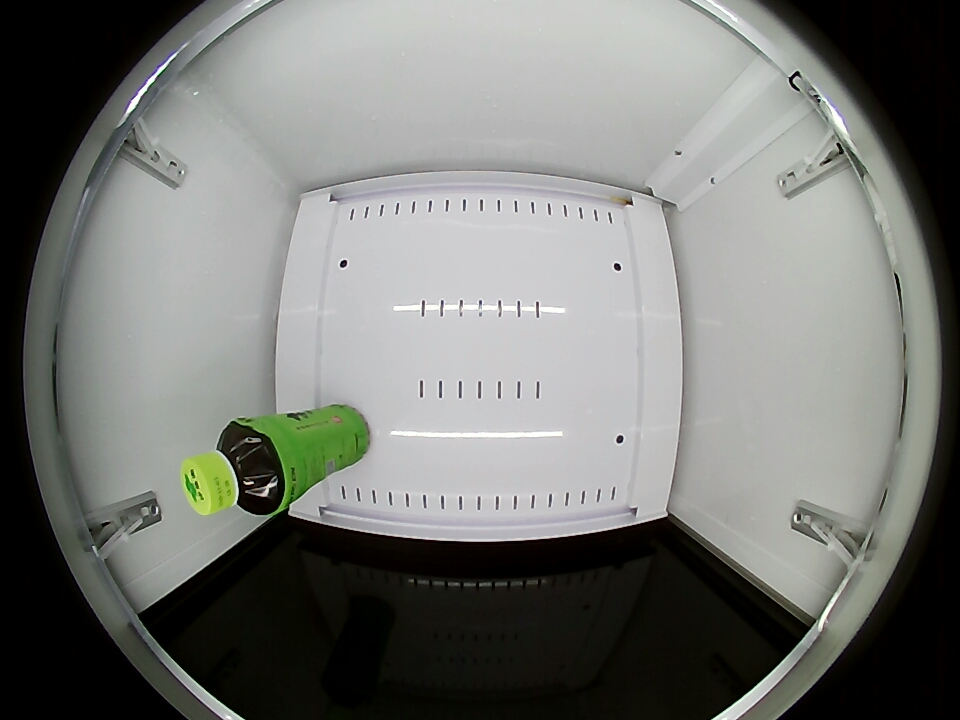yitengyuan: (182, 418, 290, 518)
